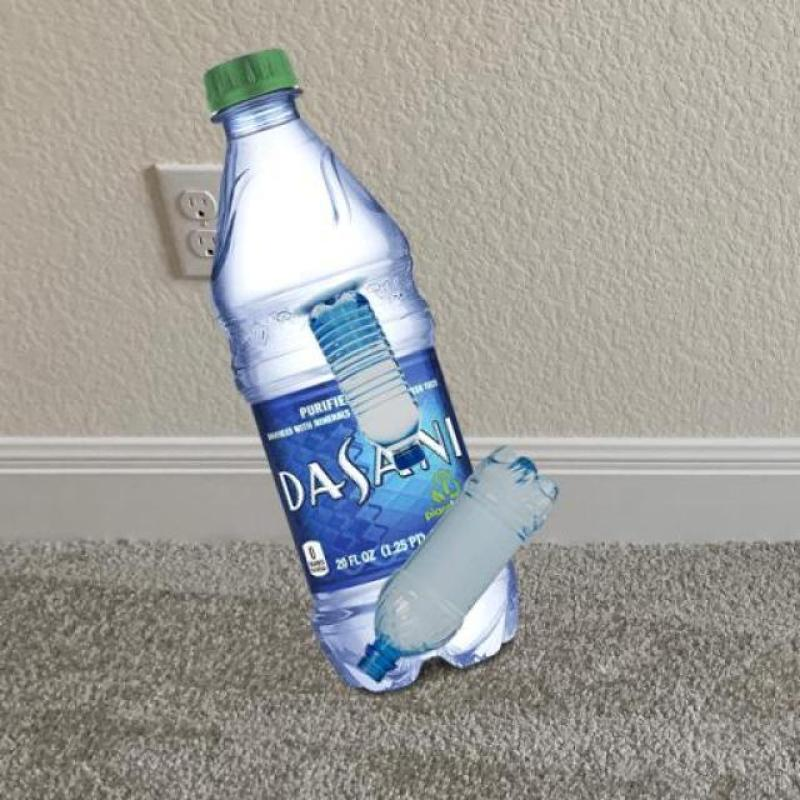botella: (203, 44, 522, 694), (355, 446, 560, 685)
